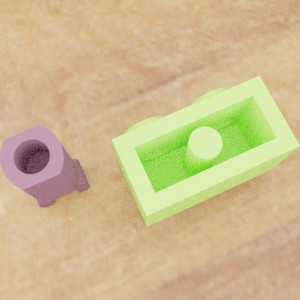lego: (111, 75, 299, 226), (0, 124, 89, 207)
